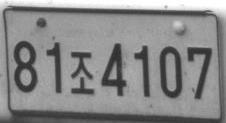0: (158, 44, 182, 98)
1: (131, 44, 156, 97), (44, 42, 67, 93)
4: (100, 43, 127, 96)
7: (186, 46, 212, 99)
8: (13, 39, 38, 92)
조: (70, 50, 95, 94)
